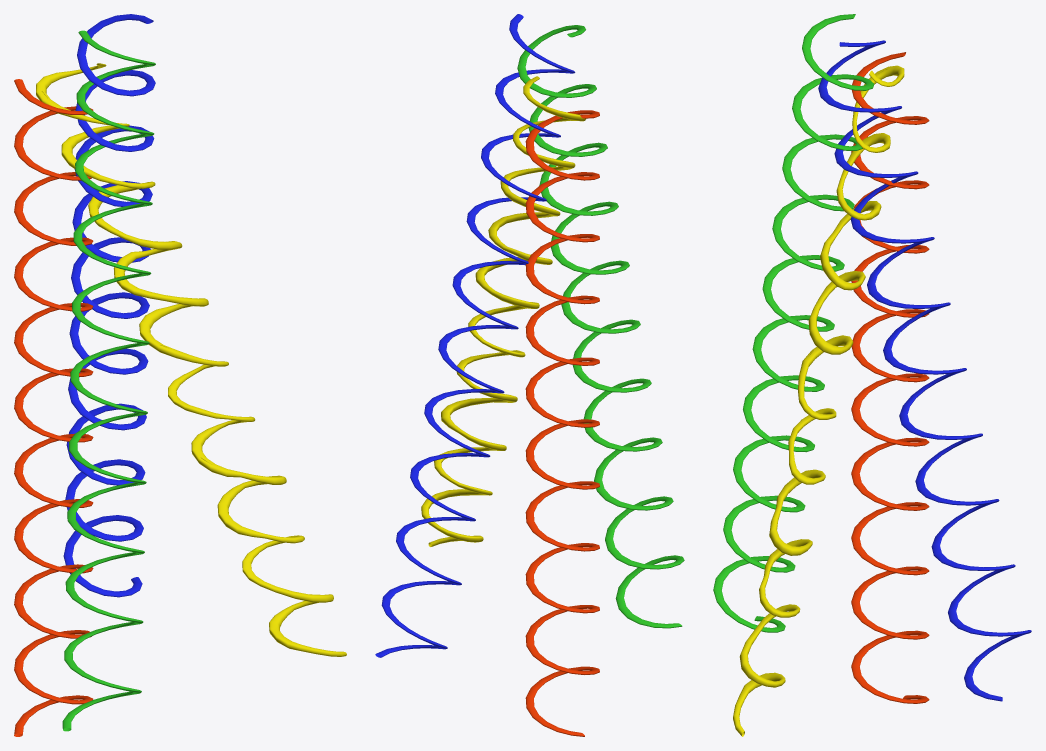
The model's file is ColorProps3.fbx.
3 renders of one model, left to right at view 1: azimuth 30°, elevation 25°; view 2: azimuth 150°, elevation 25°; view 3: azimuth 270°, elevation 25°, orthographic. The views are drawn at different scales.
Visible parts, largest first — view 1: Circle.005, Circle.008, Circle.004, Circle.007; view 2: Circle.007, Circle.004, Circle.008, Circle.005; view 3: Circle.007, Circle.005, Circle.004, Circle.008.
Boxes of the visible parts, x1,y1,x2,y2 form: Circle.005: [36, 63, 346, 656]; Circle.008: [63, 14, 155, 597]; Circle.004: [14, 79, 93, 736]; Circle.007: [62, 30, 155, 731]; Circle.007: [517, 25, 684, 628]; Circle.004: [525, 110, 599, 736]; Circle.008: [375, 14, 575, 657]; Circle.005: [421, 76, 585, 546]; Circle.007: [713, 14, 874, 632]; Circle.005: [733, 65, 904, 736]; Circle.004: [851, 52, 929, 703]; Circle.008: [818, 40, 1031, 701].
Bounding box in the file's own units: 155 × 385 × 158.
